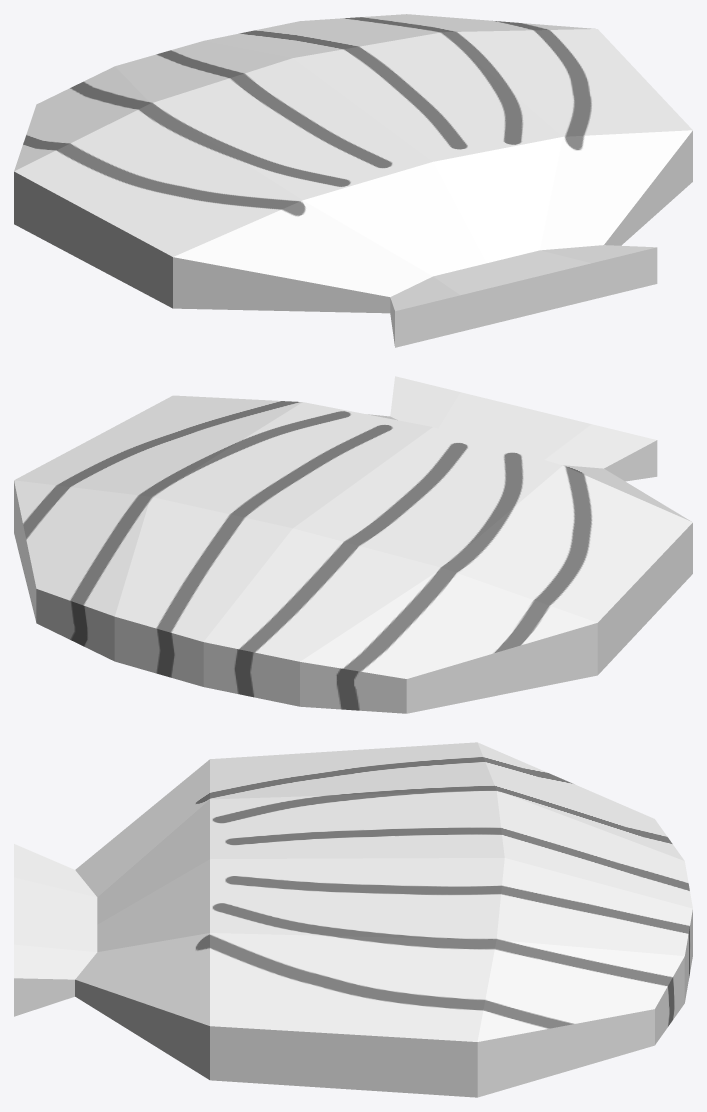
File: shell_ocean.glb
The picture shows the model from 3 angles, top to bottom: view 1: azimuth 30°, elevation 25°; view 2: azimuth 150°, elevation 25°; view 3: azimuth 270°, elevation 25°; orthographic projection. The views are drawn at different scales.
Parts seen in each view (by area): view 1: Cube; view 2: Cube; view 3: Cube.
Part boxes in pixels (left/top/right/bottom): Cube: left=14, top=14, right=692, bottom=347; Cube: left=14, top=376, right=692, bottom=713; Cube: left=14, top=742, right=692, bottom=1097.
Size of the model in its own units: 0.4727 by 0.0781 by 0.4525.
1 material, 1 textured.
